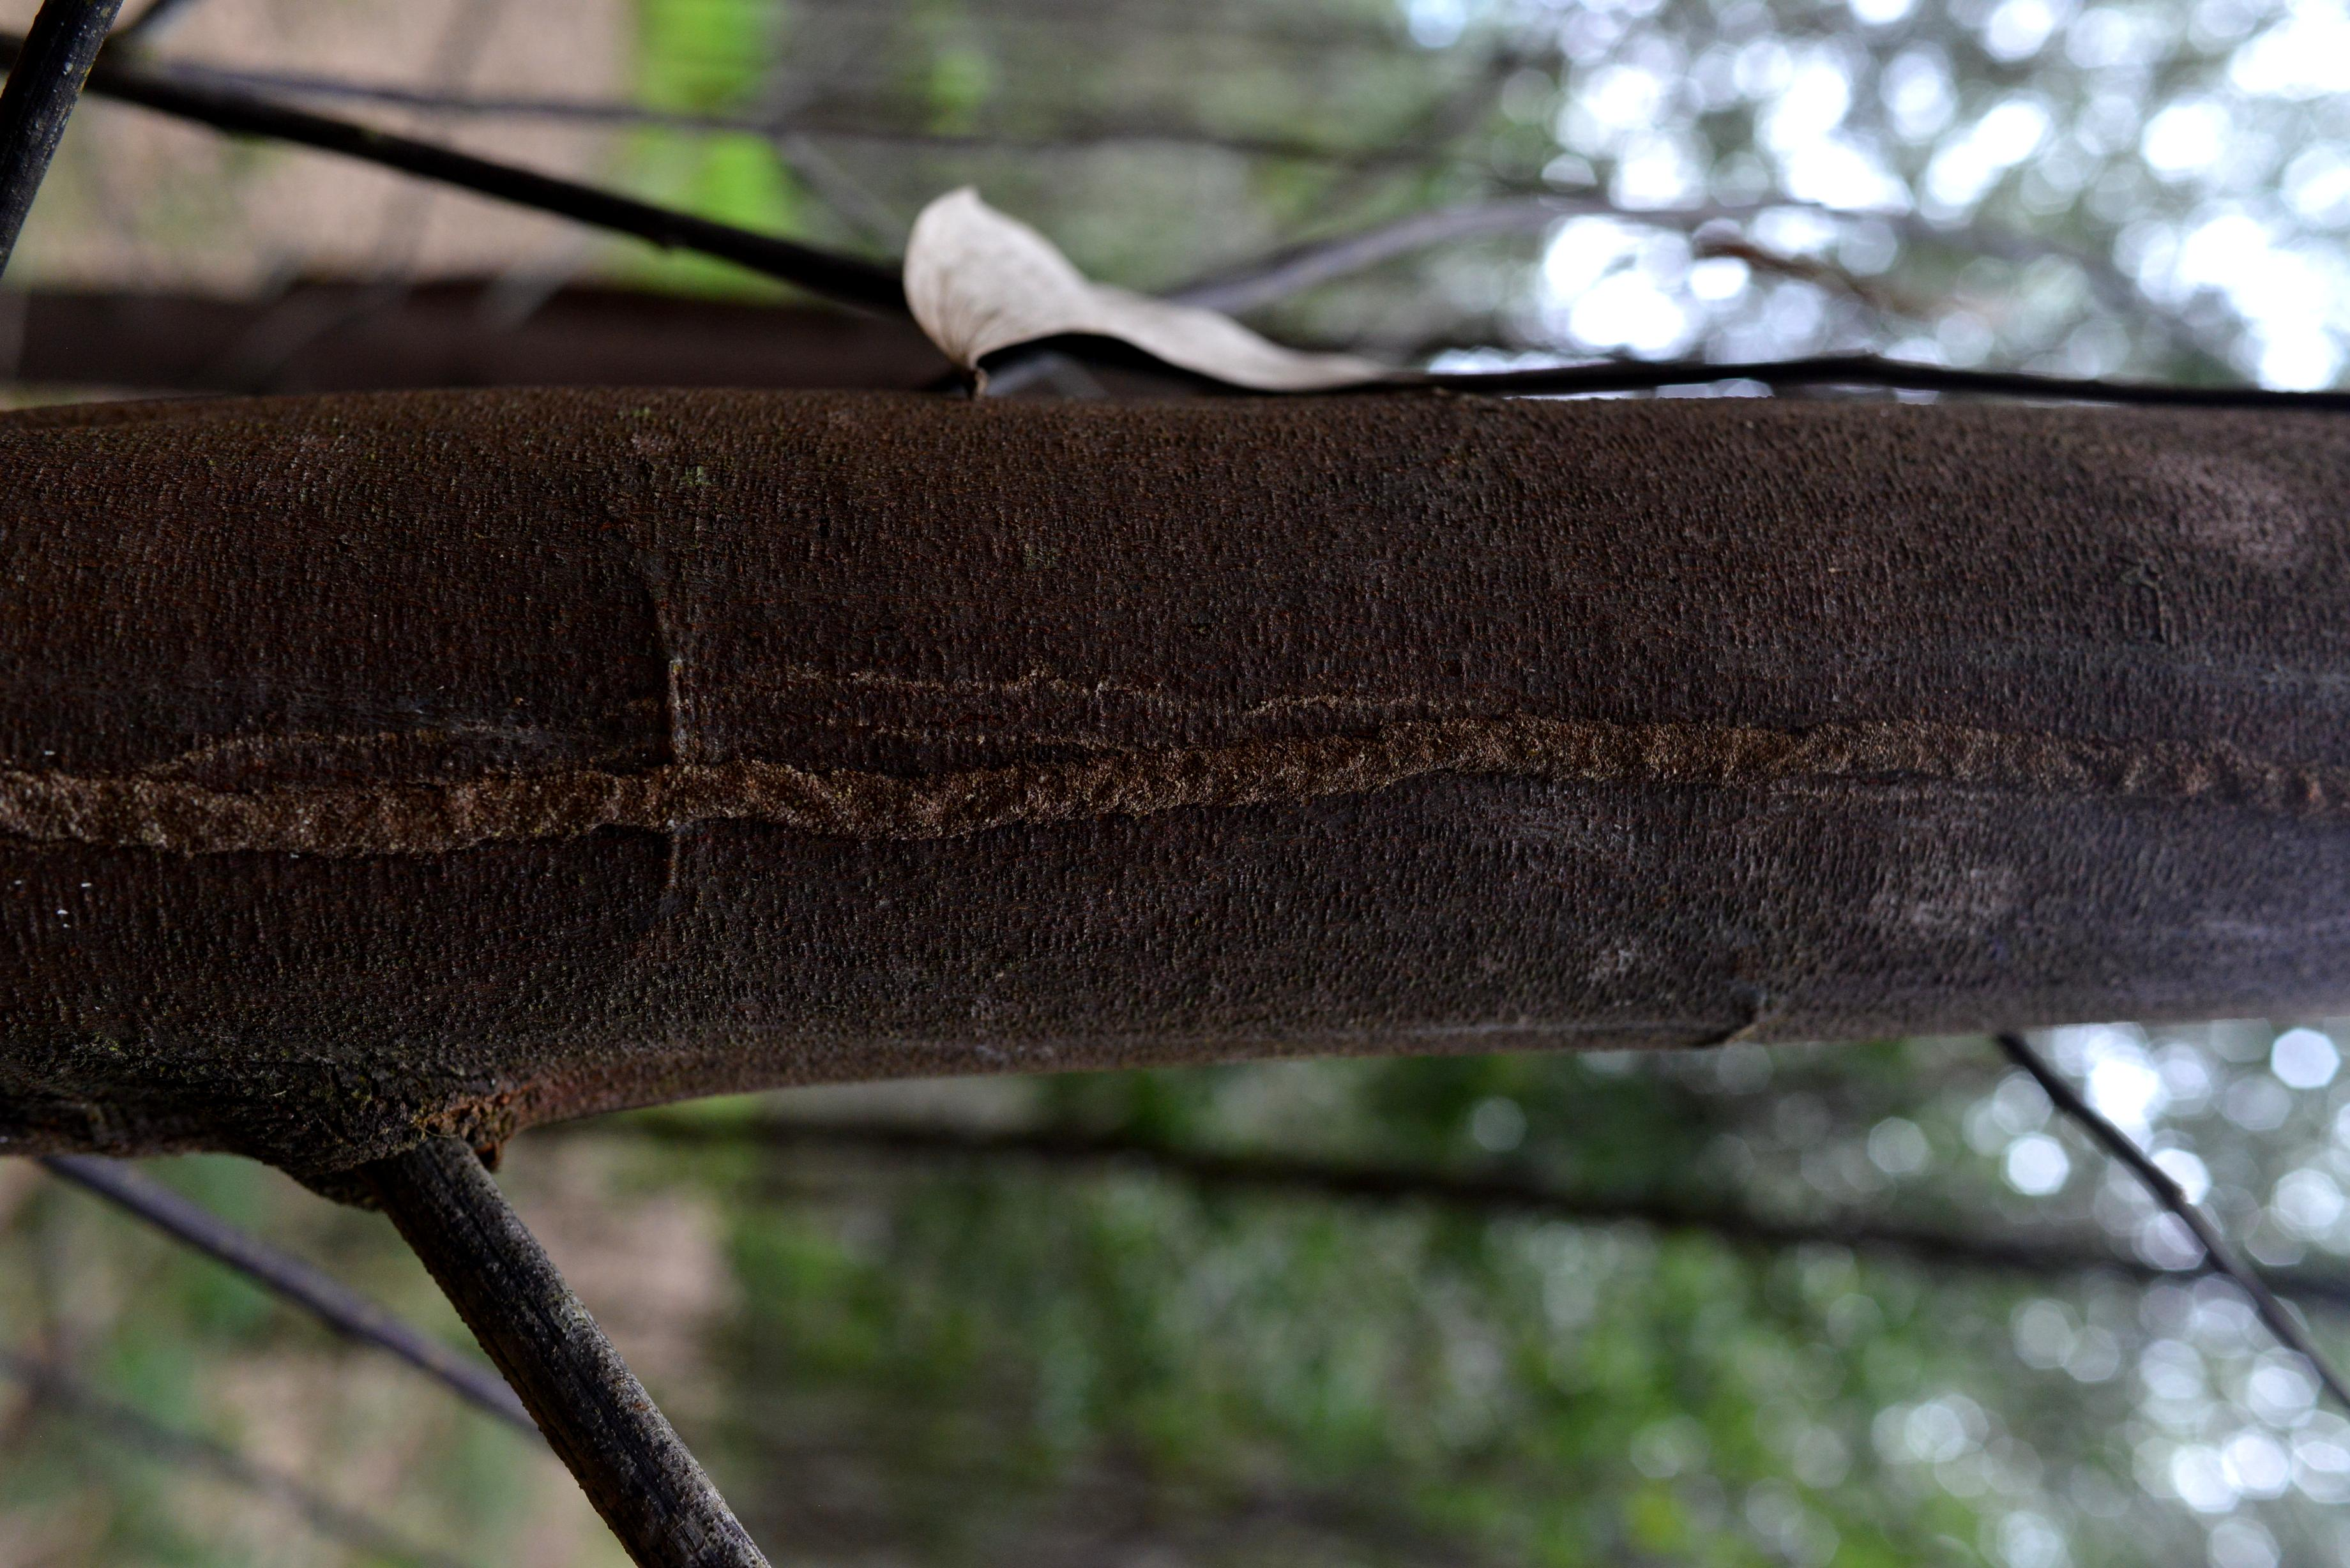Termite - Nest: (0, 674, 2222, 884)
